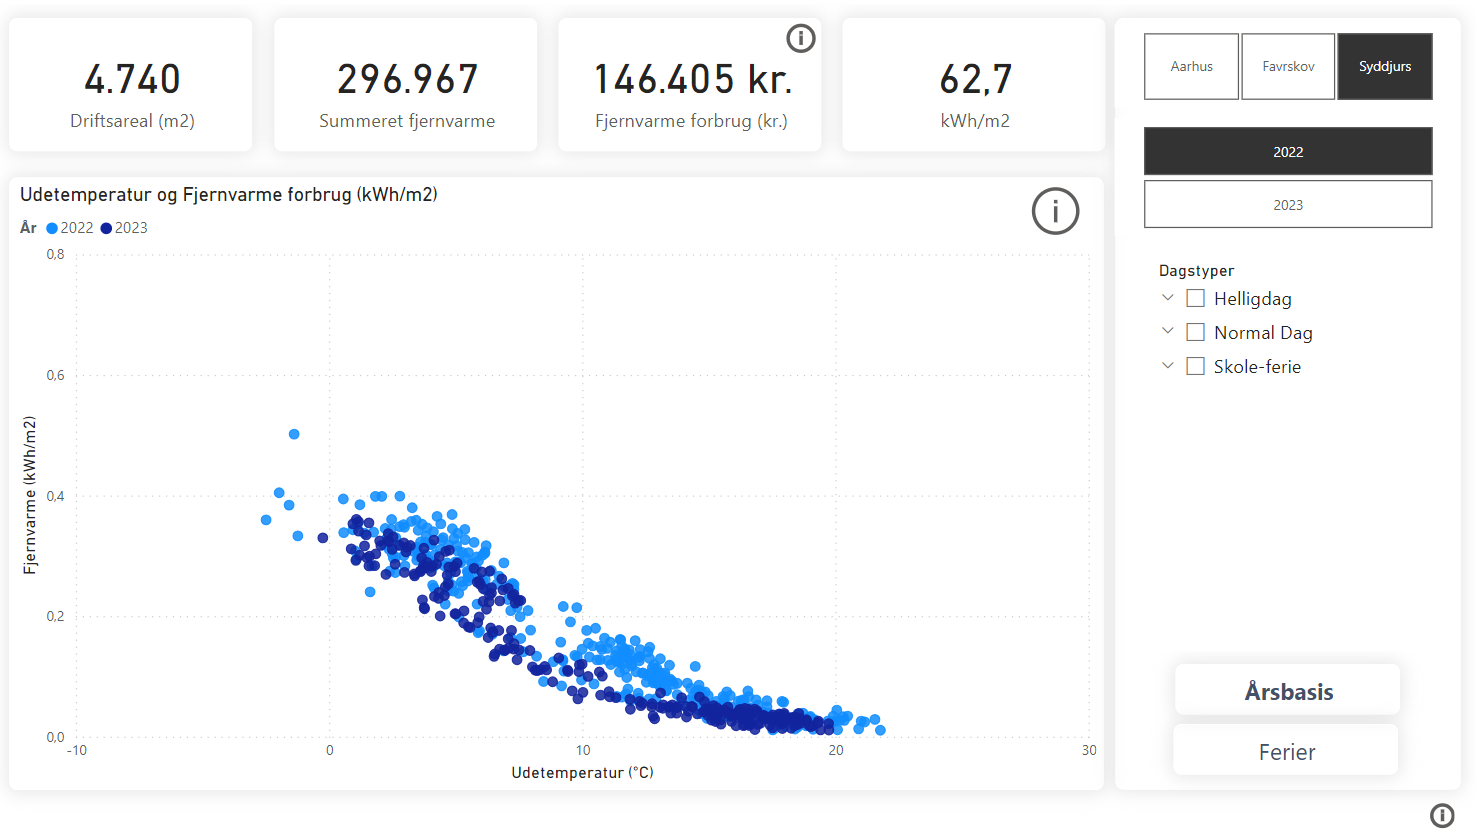

The dashboard page shown, as its layout file describes it:
{"tool":"powerbi","page":{"name":"Energiudnyttelse - år","canvas":[1280,720],"ordinal":1},"visuals":[{"type":"scatterChart","title":"Udetemperatur og Fjernvarme forbrug (kWh/m2)","fields":{"X":["4_FEATURIZ_DMI.VALUE"],"Category":["4_FEATURIZ_DATOER.DATE"],"Series":["4_FEATURIZ_DATOER.YEAR"],"Y":["1 DAX.energy_per_sqm"]},"box":[10,150,947.5,530],"z":0},{"type":"card","fields":{"Values":["1 DAX.energy_per_sqm"]},"box":[731.2,12.2,226.7,115.6],"z":1000},{"type":"card","fields":{"Values":["1 DAX.Fjernvarme forbrug (kr.)"]},"box":[485.3,12.2,226.7,115.6],"z":2000},{"type":"card","fields":{"Values":["Sum(1_RAW_KOMMUNER_SKOLER.DRIFTSAREAL)"]},"box":[10,12.2,210,115.6],"z":3000},{"type":"card","fields":{"Values":["4_FEATURIZ_LOKALER.Summeret fjernvarme"]},"box":[239.3,12.2,226.7,115.6],"z":4000},{"type":"shape","box":[967,12,299,668],"z":5000},{"type":"shape","title":"År","box":[1018.9,571.1,194.4,43.3],"z":6000},{"type":"shape","title":"Ferie","box":[1017.8,623.3,194.4,43.3],"z":7000},{"type":"slicer","fields":{"Values":["4_FEATURIZ_DATOER.TYPE (groups)","4_FEATURIZ_DATOER.NAVN"]},"box":[991.2,216.2,253.8,343.8],"z":8000},{"type":"slicer","fields":{"Values":["1_RAW_KOMMUNER_SKOLER.KOMMUNE"]},"box":[966.4,18.2,299.1,71.8],"z":9000},{"type":"slicer","fields":{"Values":["4_FEATURIZ_DATOER.YEAR"]},"box":[966.4,99.1,299.1,101.8],"z":10000},{"type":"actionButton","box":[888.3,150,53.3,58.3],"z":11000},{"type":"actionButton","box":[677.3,11.8,34.5,35.5],"z":12000},{"type":"actionButton","box":[1235,687,30,31],"z":13000}]}

Visuals, with their boxes in screenshot pixels (x1, y1, x2, y2), scaled from the page's 1280x720 canvas onto the 1476x836 screenshot:
"Udetemperatur og Fjernvarme forbrug (kWh/m2)" scatterChart: detection(12, 174, 1104, 790)
card - 1 DAX.energy_per_sqm: detection(843, 14, 1105, 148)
card - 1 DAX.Fjernvarme forbrug (kr.): detection(560, 14, 821, 148)
card - Sum(1_RAW_KOMMUNER_SKOLER.DRIFTSAREAL): detection(12, 14, 254, 148)
card - 4_FEATURIZ_LOKALER.Summeret fjernvarme: detection(276, 14, 537, 148)
shape: detection(1115, 14, 1460, 790)
"År" shape: detection(1175, 663, 1399, 713)
"Ferie" shape: detection(1174, 724, 1398, 774)
slicer - 4_FEATURIZ_DATOER.TYPE (groups) x 4_FEATURIZ_DATOER.NAVN: detection(1143, 251, 1436, 650)
slicer - 1_RAW_KOMMUNER_SKOLER.KOMMUNE: detection(1114, 21, 1459, 105)
slicer - 4_FEATURIZ_DATOER.YEAR: detection(1114, 115, 1459, 233)
actionButton: detection(1024, 174, 1086, 242)
actionButton: detection(781, 14, 821, 55)
actionButton: detection(1424, 798, 1459, 834)
